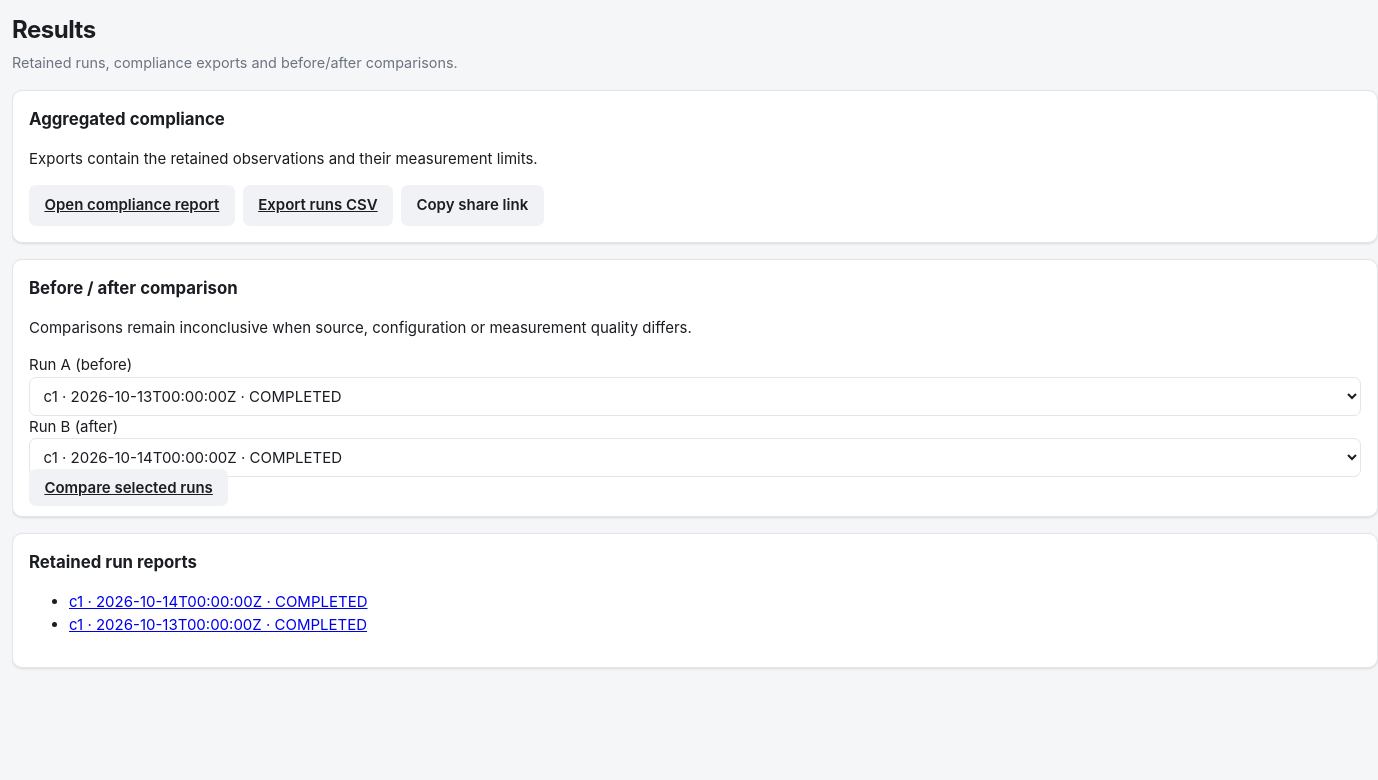
Test: retained results surface › orders actual retained runs for before/after selection and prevents self-comparison
The width and height of the screenshot is (1378, 780).
Expected: the dropdown labelled "Run A (before)" shows "c1 · 2026-10-13T00:00:00Z · COMPLETED", [29, 377, 1361, 416]
Select "c1 · 2026-10-13T00:00:00Z · COMPLETED" in the dropdown labelled "Run B (after)" at (695, 458), box [29, 438, 1361, 478]
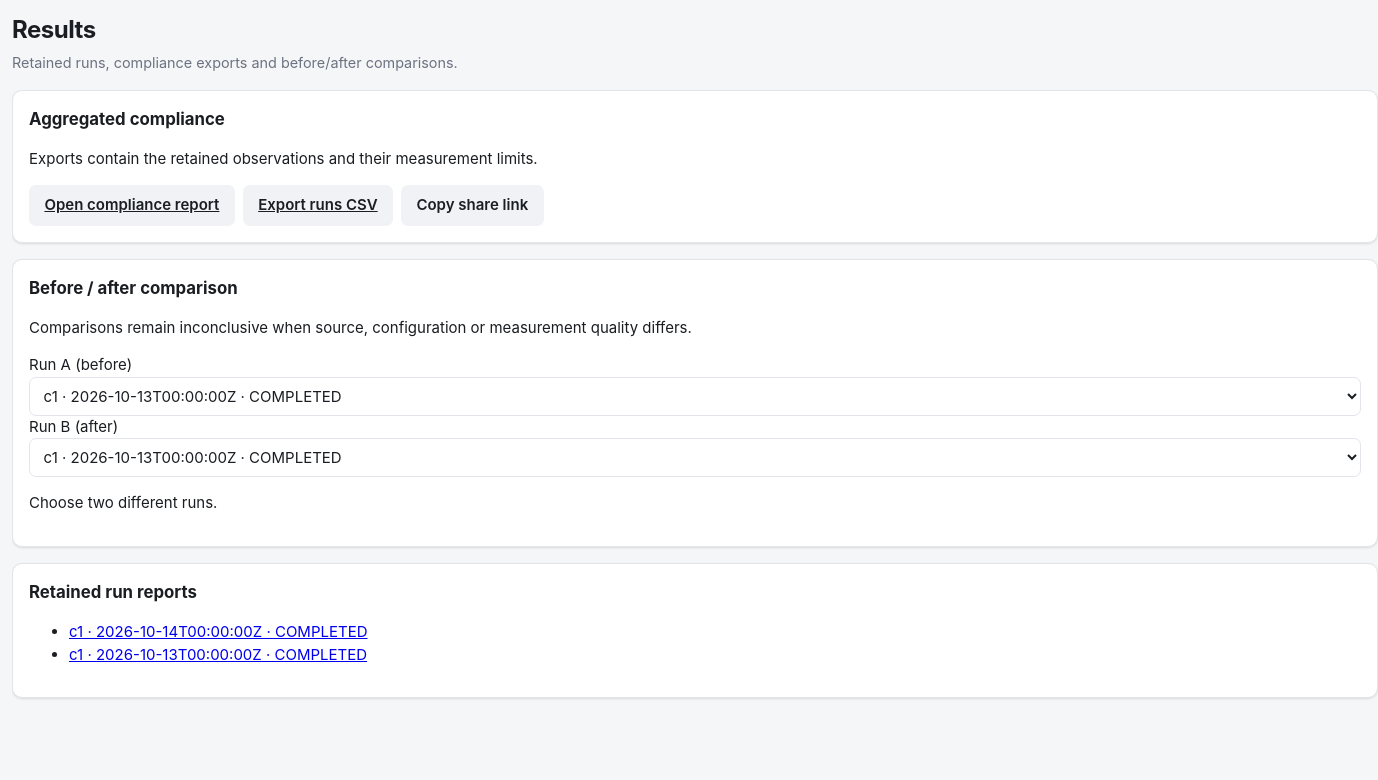
Now the link "Compare selected runs" is gone
